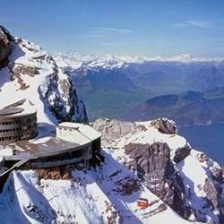neutral: (2, 9, 224, 223)
